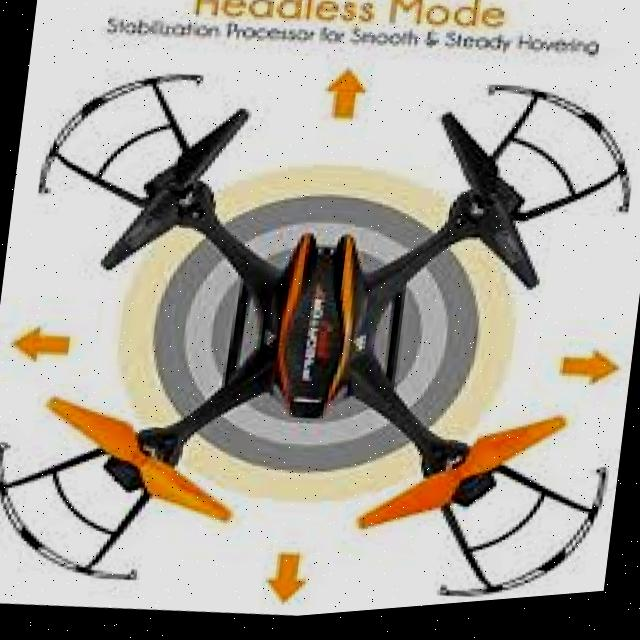drone: (0, 20, 640, 640)
